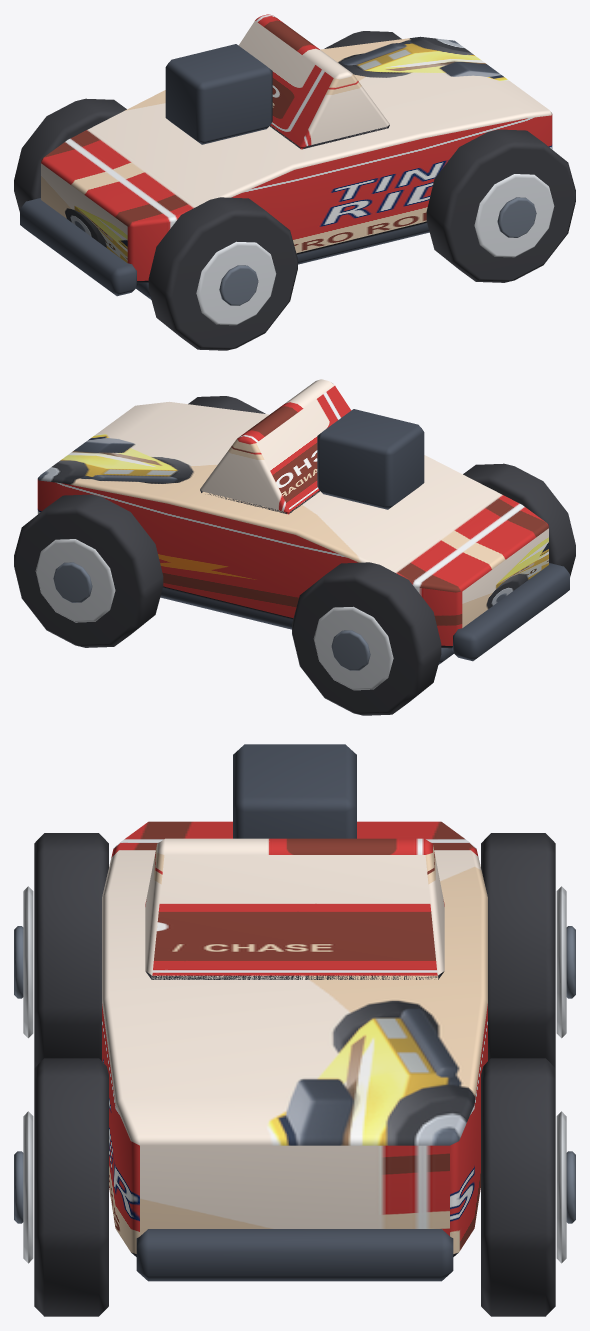
The picture shows the model from 3 angles, top to bottom: view 1: azimuth 30°, elevation 25°; view 2: azimuth 150°, elevation 25°; view 3: azimuth 270°, elevation 25°; orthographic projection. The views are drawn at different scales.
Parts seen in each view (by area): view 1: RR-04_connected_shell, Tire, Tire.002, RR-04_cabin, engine scoop, front bumper, Tire.001, Rim, Rim.002, underbody, Hub, Hub.002 (+1 smaller); view 2: RR-04_connected_shell, Tire.001, Tire.003, RR-04_cabin, engine scoop, front bumper, Tire, Rim.001, Rim.003, underbody, Hub.001, Hub.003 (+1 smaller); view 3: RR-04_connected_shell, RR-04_cabin, Tire.002, Tire.003, rear bumper, Tire, Tire.001, engine scoop, Rim, Rim.001, Rim.002, Rim.003 (+4 smaller).
Part boxes in pixels (x1,y1,x2,y2): RR-04_connected_shell: (41, 36, 552, 283); Tire: (148, 197, 297, 350); Tire.002: (426, 129, 575, 282); RR-04_cabin: (238, 14, 389, 149); engine scoop: (165, 44, 272, 144); front bumper: (20, 198, 137, 296); Tire.001: (14, 98, 126, 211); Rim: (196, 241, 276, 325); Rim.002: (474, 174, 554, 257); underbody: (136, 223, 429, 299); Hub: (219, 265, 258, 305); Hub.002: (497, 197, 536, 237); RR-04_connected_shell: (37, 401, 548, 648); Tire.001: (292, 562, 441, 715); Tire.003: (14, 494, 163, 647); RR-04_cabin: (200, 379, 351, 514); engine scoop: (317, 409, 424, 509); front bumper: (452, 563, 569, 661); Tire: (463, 463, 575, 576); Rim.001: (313, 606, 393, 690); Rim.003: (35, 539, 115, 622); underbody: (160, 588, 453, 664); Hub.001: (331, 630, 370, 670); Hub.003: (53, 562, 92, 602); RR-04_connected_shell: (102, 821, 487, 1256); RR-04_cabin: (145, 838, 444, 979); Tire.002: (34, 1058, 108, 1316); Tire.003: (481, 1058, 555, 1316); rear bumper: (136, 1229, 453, 1281); Tire: (34, 833, 108, 1067); Tire.001: (481, 833, 555, 1067); engine scoop: (233, 744, 356, 838); Rim: (23, 886, 33, 1038); Rim.001: (556, 886, 566, 1038); Rim.002: (23, 1111, 33, 1263); Rim.003: (556, 1111, 566, 1263).
Size of the model in its own units: 303 by 137 by 195.
